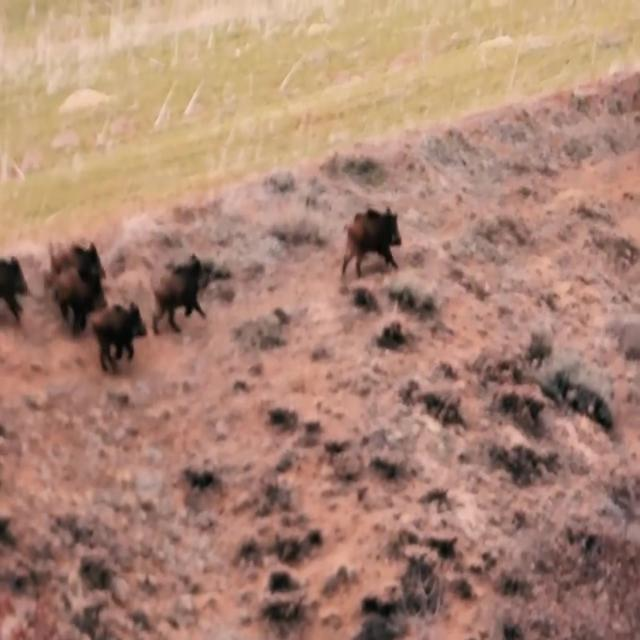pig: (338, 169, 422, 301), (142, 237, 236, 354), (0, 217, 47, 349), (61, 249, 114, 346), (100, 301, 153, 362)
